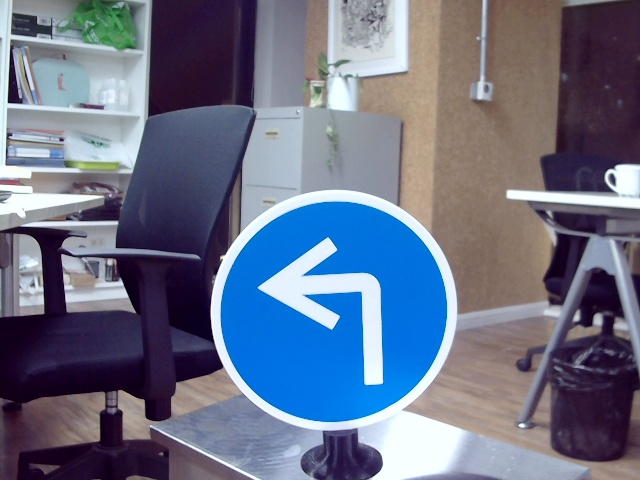turn_left: (261, 238, 400, 390)
